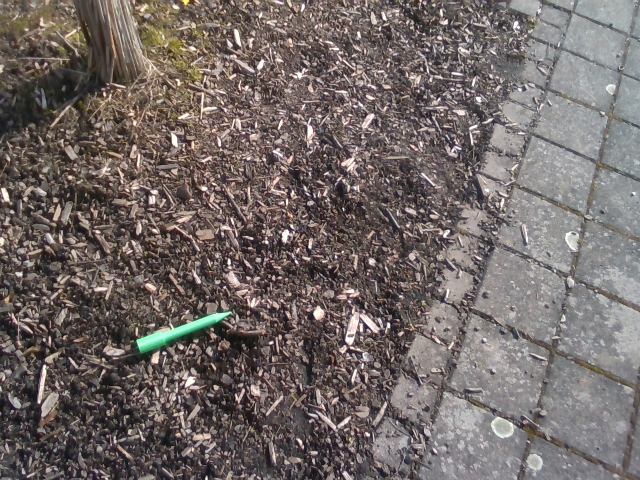Probe: (129, 300, 236, 359)
